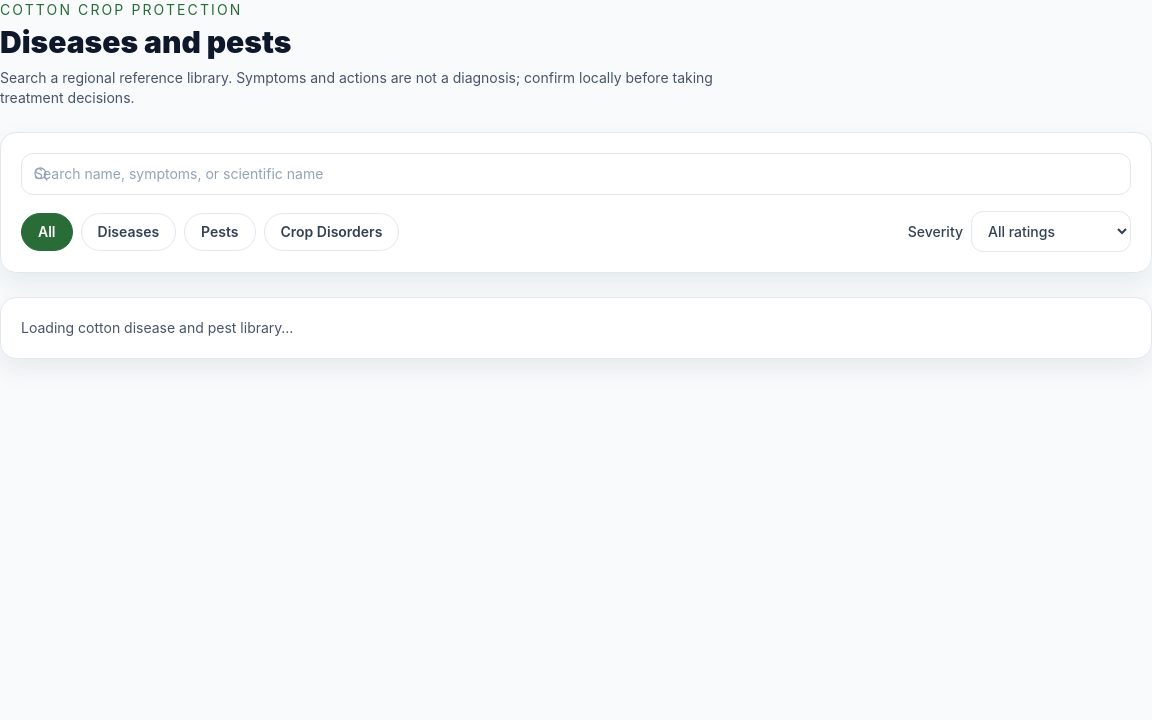
Test: CottonIssueGuide › searches symptom text and opens a full details view
The width and height of the screenshot is (1152, 720).
Type "rosetted flowers" into the search field named "Search cotton diseases and pests" at (576, 174), box [21, 153, 1131, 195]
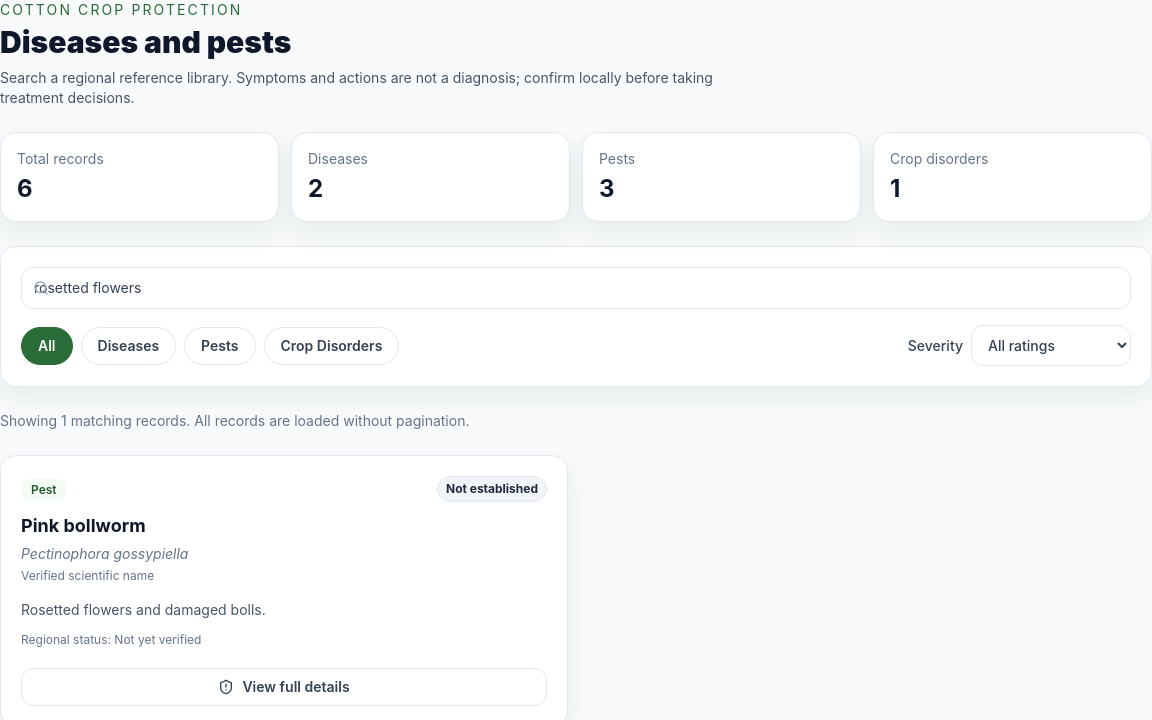
Expected: the heading "Pink bollworm" is shown, [21, 515, 146, 536]
Click the button "View full details" at (284, 687), box [21, 668, 547, 706]
(page scrolled)
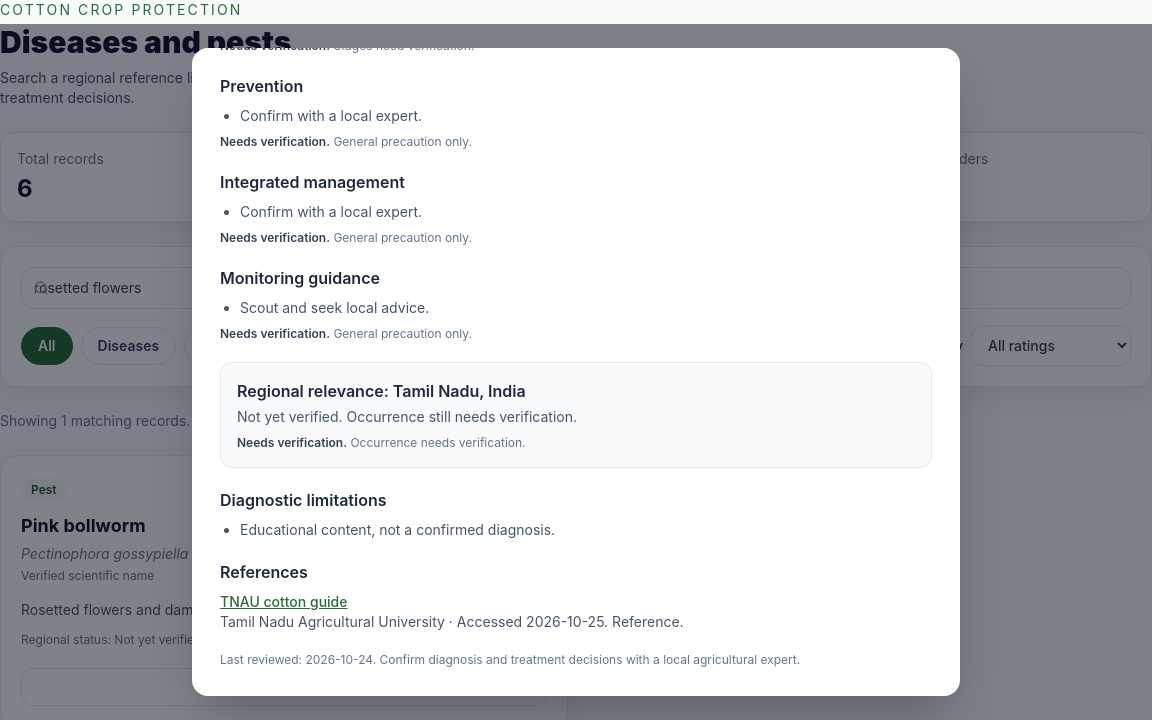
Expected: the dialog is shown
Expected: the heading "Monitoring guidance" is shown, [220, 268, 380, 288]
Expected: the heading "References" is shown, [220, 562, 308, 582]
